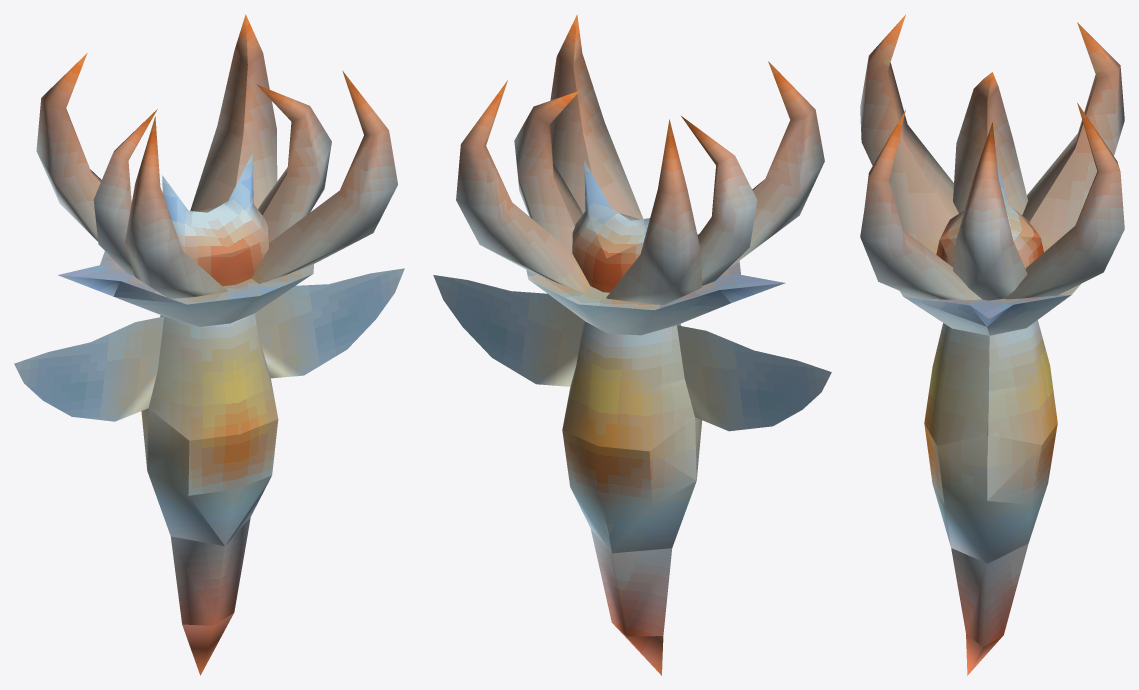
File: sea-butterfly.glb
3 renders of one model, left to right at view 1: azimuth 30°, elevation 25°; view 2: azimuth 150°, elevation 25°; view 3: azimuth 270°, elevation 25°, orthographic. The views are drawn at different scales.
Parts seen in each view (by area): view 1: FishKurione__mKurione; view 2: FishKurione__mKurione; view 3: FishKurione__mKurione.
Part boxes in pixels (x1,y1,x2,y2): FishKurione__mKurione: (14, 14, 404, 675); FishKurione__mKurione: (433, 14, 831, 675); FishKurione__mKurione: (860, 14, 1124, 675).
Bounding box in the file's own units: 2.15 × 3.15 × 1.21.
1 material, 1 textured.
